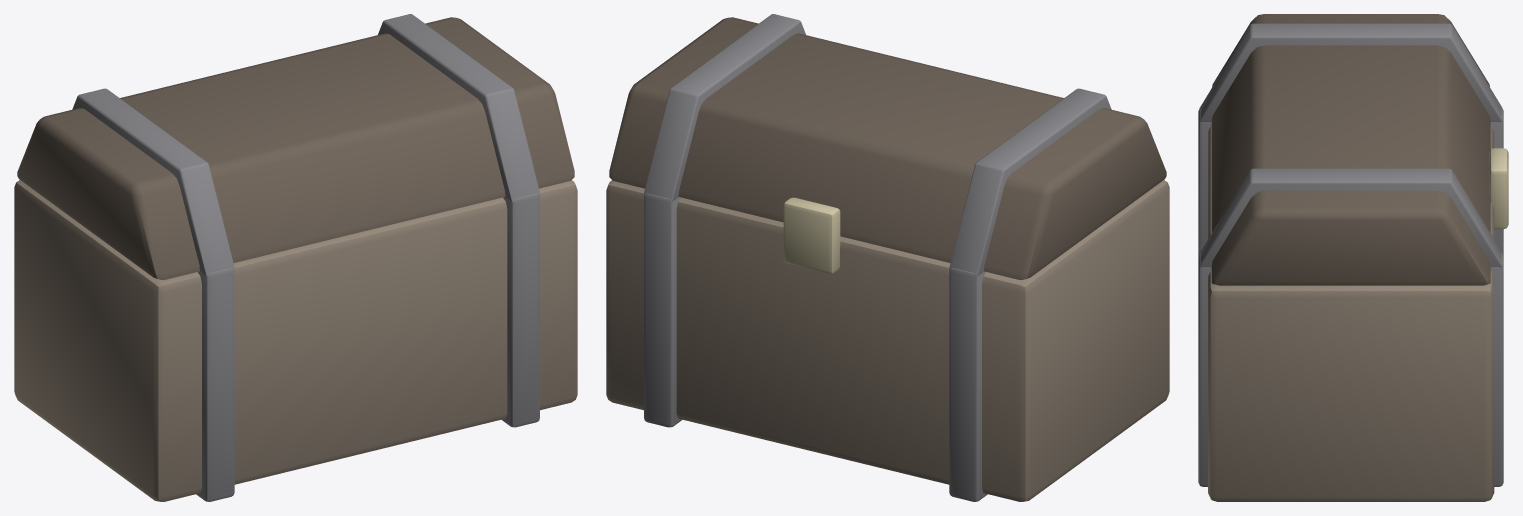
The model's file is chest.gltf.
The picture shows the model from 3 angles, left to right: view 1: azimuth 30°, elevation 25°; view 2: azimuth 150°, elevation 25°; view 3: azimuth 270°, elevation 25°; orthographic projection. The views are drawn at different scales.
Visible parts, largest first — view 1: Body, Lid; view 2: Body, Lid; view 3: Lid, Body.
Boxes of the visible parts, box(x1,y1,x2,y2) form: Body: box(14, 180, 577, 501); Lid: box(17, 14, 574, 279); Body: box(606, 180, 1169, 501); Lid: box(609, 14, 1166, 279); Lid: box(1199, 14, 1508, 285); Body: box(1198, 108, 1503, 501).
Bounding box in the file's own units: 1 × 0.71 × 0.65.
